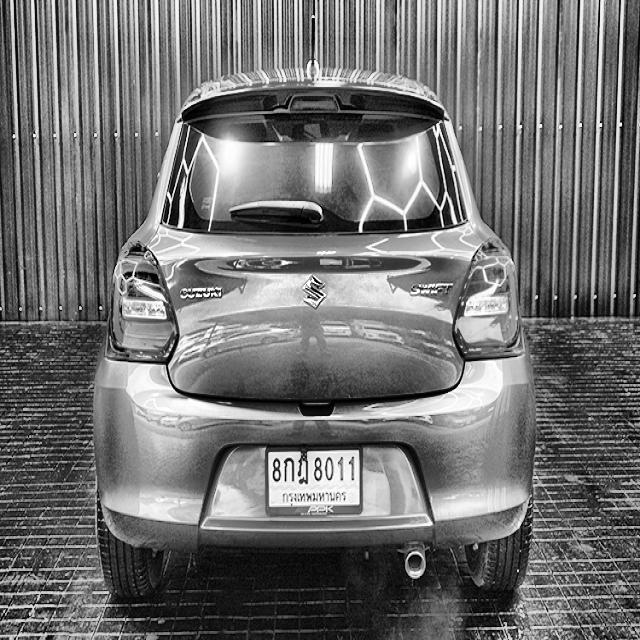license-plate: (265, 447, 364, 517)
